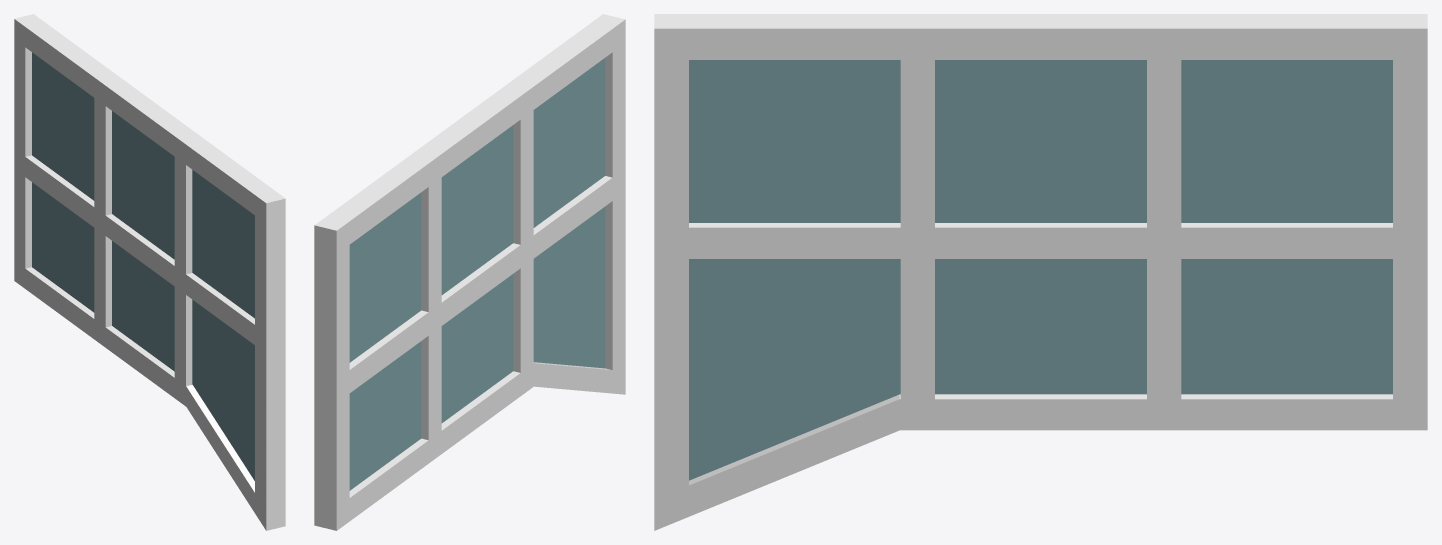
File: Tavern (Window 2).fbx
The picture shows the model from 3 angles, left to right: view 1: azimuth 30°, elevation 25°; view 2: azimuth 150°, elevation 25°; view 3: azimuth 270°, elevation 25°; orthographic projection. The views are drawn at different scales.
Parts seen in each view (by area): view 1: Tavern (Window 2); view 2: Tavern (Window 2); view 3: Tavern (Window 2).
Part boxes in pixels (x1,y1,x2,y2): Tavern (Window 2): (14, 14, 285, 530); Tavern (Window 2): (314, 14, 625, 530); Tavern (Window 2): (654, 14, 1427, 530).
Size of the model in its own units: 36.03 by 579 by 807.
